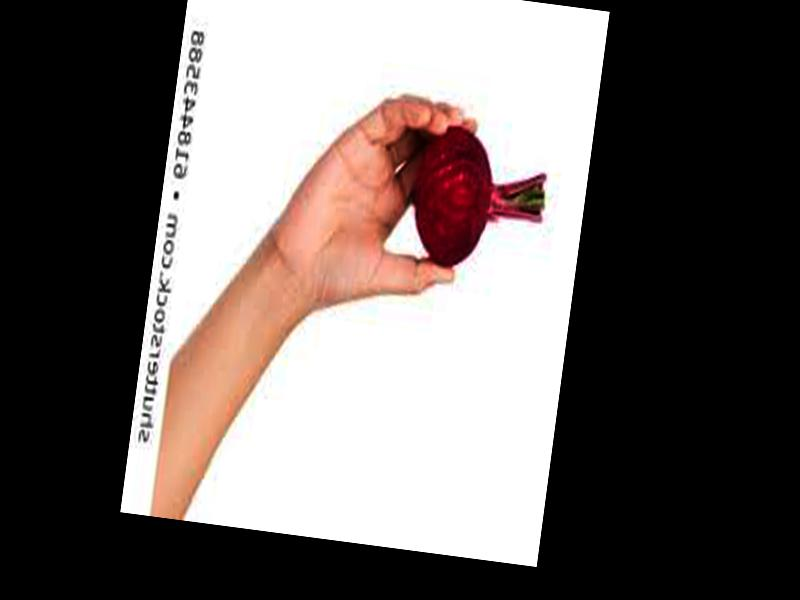Beet: (404, 119, 553, 277)
